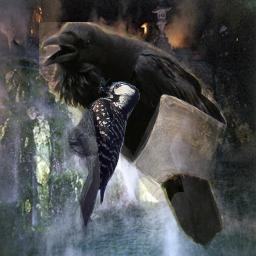Crow: (39, 22, 227, 252)
Woodpecker: (65, 75, 140, 238)
